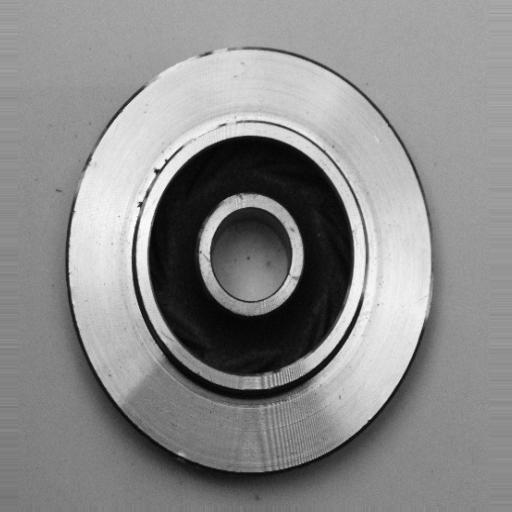crack: (127, 195, 150, 216), (149, 160, 168, 182)
scratch: (175, 117, 253, 151)
unpolished_casting: (67, 44, 438, 478)
